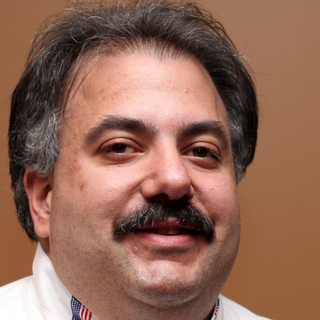eye: (95, 136, 143, 163), (182, 140, 225, 165)
